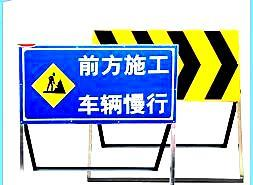sign: (21, 46, 175, 121)
